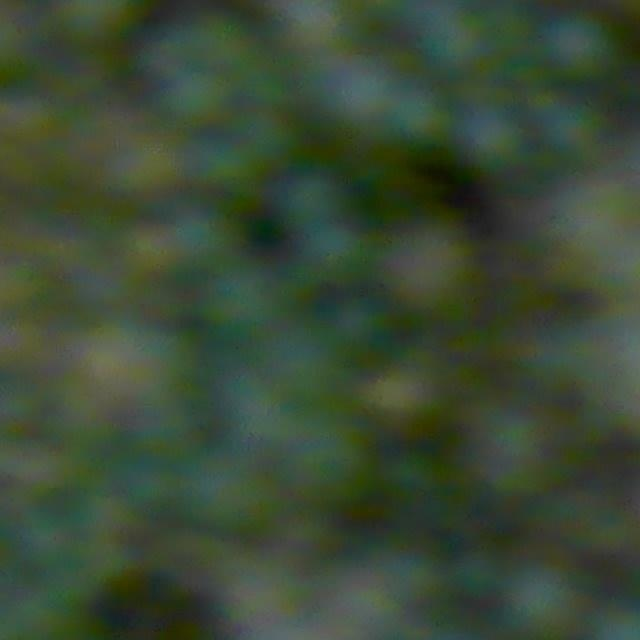SeaGrape: (499, 559, 582, 640), (316, 53, 399, 131), (541, 11, 619, 84), (455, 100, 529, 171), (164, 203, 238, 273), (536, 93, 608, 164), (298, 219, 368, 286), (276, 168, 348, 233), (384, 82, 451, 147), (166, 65, 232, 129)
